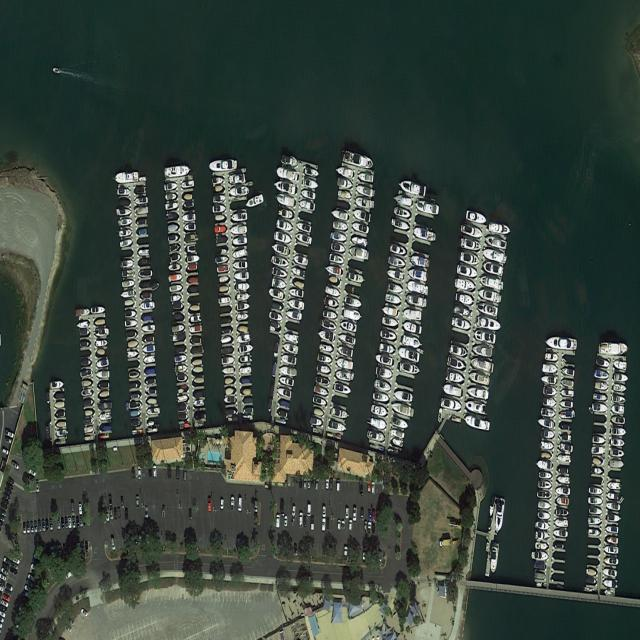ship: (343, 149, 375, 171), (464, 414, 491, 432), (493, 497, 506, 534), (483, 246, 507, 266), (546, 336, 577, 351), (470, 357, 495, 375), (391, 401, 416, 419), (415, 199, 440, 216), (461, 222, 484, 240), (414, 226, 437, 244), (477, 317, 502, 333), (479, 275, 504, 291), (276, 166, 299, 183), (456, 263, 479, 280), (474, 329, 497, 346), (454, 276, 477, 293), (406, 280, 429, 297), (398, 347, 421, 364), (399, 178, 420, 196), (599, 343, 628, 356), (274, 179, 296, 196), (476, 301, 498, 318), (485, 234, 507, 251), (467, 385, 490, 401), (405, 294, 428, 310), (489, 541, 500, 574), (349, 245, 370, 262), (466, 209, 487, 226), (469, 371, 491, 387), (440, 396, 462, 412), (276, 192, 296, 209), (483, 260, 503, 277), (165, 165, 191, 178), (459, 251, 480, 267), (451, 316, 472, 332), (447, 356, 468, 372), (442, 383, 463, 399), (400, 361, 421, 377), (208, 160, 238, 171), (465, 399, 485, 415), (471, 343, 492, 358), (410, 254, 431, 269), (402, 335, 423, 350), (478, 289, 500, 303), (489, 221, 511, 235), (455, 292, 475, 307), (461, 238, 482, 252), (336, 164, 354, 180), (115, 172, 139, 184), (245, 194, 264, 209), (271, 242, 290, 257), (353, 208, 372, 223), (356, 184, 375, 199), (393, 193, 412, 208), (333, 382, 353, 396), (449, 344, 469, 358), (407, 268, 427, 282), (403, 321, 423, 335), (282, 153, 300, 168), (371, 403, 389, 418), (374, 378, 392, 393), (375, 353, 393, 368), (388, 255, 406, 270), (391, 416, 409, 431), (367, 430, 386, 444), (331, 407, 350, 421), (344, 308, 363, 322), (355, 196, 374, 210), (446, 371, 465, 385), (394, 389, 413, 403), (318, 328, 335, 343), (337, 176, 354, 191), (277, 219, 294, 234), (275, 230, 292, 245), (229, 186, 250, 198), (272, 255, 290, 269), (336, 357, 354, 371), (392, 218, 410, 232), (282, 342, 299, 356), (288, 298, 305, 312), (299, 199, 316, 213), (331, 208, 348, 222), (370, 417, 387, 431), (272, 266, 289, 280), (337, 344, 354, 358), (339, 333, 356, 347), (387, 268, 404, 282), (279, 365, 297, 378), (345, 296, 363, 309), (348, 272, 366, 285), (404, 308, 422, 321), (296, 232, 312, 246), (268, 287, 284, 301), (379, 342, 395, 356), (286, 309, 303, 322), (325, 263, 342, 276), (376, 366, 393, 379), (340, 320, 357, 333), (380, 329, 397, 342), (454, 305, 471, 318), (385, 293, 402, 306), (390, 244, 407, 257), (394, 206, 411, 219), (279, 375, 295, 388), (296, 221, 312, 234), (303, 177, 319, 190), (304, 166, 320, 179), (324, 296, 340, 309), (329, 253, 345, 266), (335, 369, 351, 382), (351, 235, 367, 248), (352, 221, 368, 234), (382, 305, 398, 318), (538, 417, 554, 430), (280, 353, 297, 365), (321, 319, 338, 331), (331, 421, 348, 433), (277, 386, 292, 399), (294, 254, 309, 267), (314, 385, 329, 398), (331, 241, 346, 254), (272, 277, 287, 290), (325, 286, 341, 298), (315, 375, 331, 387), (332, 231, 348, 243), (333, 220, 349, 232), (358, 172, 374, 184), (388, 282, 404, 294), (229, 174, 246, 185), (373, 392, 390, 403), (382, 317, 399, 328), (488, 495, 496, 518), (289, 287, 304, 299), (301, 189, 316, 201), (230, 225, 248, 235), (338, 189, 353, 201), (279, 208, 294, 220), (269, 311, 284, 323), (316, 364, 332, 375), (542, 363, 558, 374), (532, 551, 549, 561), (292, 266, 306, 278), (309, 416, 323, 428), (284, 333, 299, 344), (313, 396, 328, 407), (390, 428, 405, 439), (594, 369, 609, 380), (541, 375, 557, 385), (592, 403, 608, 413), (611, 427, 627, 437), (536, 460, 552, 470), (613, 359, 627, 370), (232, 249, 247, 259), (323, 310, 338, 320), (611, 438, 626, 448), (559, 443, 574, 453), (596, 358, 611, 368), (554, 519, 569, 529), (536, 521, 551, 531), (537, 490, 552, 500), (541, 408, 556, 418), (232, 213, 248, 222), (96, 359, 109, 370), (561, 378, 574, 389), (237, 334, 251, 344), (319, 354, 333, 364), (536, 530, 550, 540), (319, 344, 334, 353), (169, 284, 184, 293), (76, 308, 91, 317), (140, 302, 155, 311), (611, 416, 626, 425), (610, 449, 625, 458), (610, 460, 625, 469), (606, 502, 621, 511), (603, 557, 618, 566), (603, 579, 618, 588), (588, 517, 603, 526), (556, 487, 571, 496), (392, 437, 404, 448), (541, 441, 554, 451), (559, 411, 575, 419), (239, 345, 253, 354), (119, 229, 133, 238), (164, 182, 178, 191), (122, 280, 136, 289), (125, 319, 139, 328), (545, 353, 559, 362), (603, 569, 617, 578), (589, 507, 603, 516), (595, 382, 609, 391), (556, 497, 570, 506), (554, 529, 568, 538), (537, 511, 551, 520), (543, 387, 557, 396), (212, 205, 227, 213), (234, 272, 249, 280), (91, 306, 106, 314), (120, 290, 135, 298), (613, 384, 628, 392), (593, 393, 608, 401), (604, 546, 619, 554), (588, 497, 603, 505), (589, 487, 604, 495), (614, 374, 629, 382), (538, 481, 553, 489), (273, 342, 280, 359), (175, 354, 188, 363), (172, 324, 185, 333), (147, 407, 160, 416), (96, 328, 109, 337), (98, 412, 111, 421), (142, 345, 155, 354), (611, 405, 624, 414), (557, 455, 570, 464), (544, 398, 557, 407), (215, 256, 229, 264), (237, 293, 251, 301), (233, 261, 247, 269), (233, 237, 247, 245), (169, 274, 183, 282), (181, 180, 195, 188), (96, 371, 110, 379), (50, 381, 64, 389), (591, 447, 605, 455), (559, 401, 573, 409), (607, 482, 621, 490), (557, 476, 571, 484), (538, 501, 552, 509), (150, 280, 160, 291), (192, 346, 204, 355), (122, 269, 134, 278), (562, 368, 574, 377), (214, 226, 227, 234), (217, 265, 230, 273), (237, 303, 250, 311), (213, 195, 226, 203), (222, 357, 235, 365), (173, 334, 186, 342), (168, 263, 181, 271), (165, 202, 178, 210), (135, 197, 148, 205), (120, 240, 133, 248), (187, 255, 200, 263), (189, 325, 202, 333), (80, 370, 93, 378), (127, 350, 140, 358), (561, 389, 574, 397), (539, 472, 552, 480), (541, 431, 554, 439), (278, 409, 288, 419), (52, 66, 62, 76), (279, 400, 290, 409), (219, 275, 230, 284), (314, 408, 325, 417), (272, 303, 283, 312), (269, 320, 280, 329), (182, 214, 196, 221), (139, 270, 153, 277), (99, 403, 113, 410), (142, 325, 156, 332), (608, 515, 622, 522), (612, 396, 626, 403), (535, 543, 549, 550), (238, 283, 250, 291), (176, 365, 188, 373), (177, 395, 189, 403), (165, 193, 177, 201), (125, 310, 137, 318), (144, 356, 156, 364), (239, 367, 252, 374), (237, 314, 250, 321), (221, 347, 234, 354), (218, 297, 231, 304), (135, 207, 148, 214), (121, 261, 134, 268), (129, 402, 142, 409), (593, 437, 606, 444), (606, 493, 619, 500), (606, 526, 619, 533), (588, 529, 601, 536), (556, 509, 569, 516), (294, 280, 304, 289), (225, 387, 235, 396), (535, 572, 545, 581), (237, 325, 248, 333), (221, 335, 232, 343), (168, 224, 179, 232), (191, 337, 202, 345), (193, 399, 204, 407), (77, 321, 88, 329), (54, 401, 65, 409), (141, 292, 152, 300), (128, 340, 139, 348), (127, 331, 138, 339), (604, 589, 615, 597), (586, 577, 597, 585), (272, 361, 277, 378), (45, 423, 50, 440), (216, 236, 228, 243), (213, 177, 225, 184), (224, 396, 236, 403), (240, 356, 252, 363), (184, 224, 196, 231), (135, 187, 147, 194), (120, 209, 132, 216), (121, 219, 133, 226), (96, 340, 108, 347), (57, 430, 69, 437), (139, 259, 151, 266), (172, 303, 184, 310), (591, 468, 603, 475), (170, 244, 180, 252), (592, 458, 602, 466), (118, 189, 131, 195), (215, 214, 226, 221), (168, 235, 179, 242), (177, 405, 188, 412), (171, 294, 182, 301), (171, 255, 182, 262), (138, 249, 149, 256), (80, 329, 91, 336), (84, 426, 95, 433), (81, 389, 92, 396), (99, 391, 110, 398), (131, 420, 142, 427), (129, 371, 140, 378), (607, 537, 618, 544), (586, 569, 597, 576), (541, 452, 552, 459), (215, 185, 224, 193), (222, 368, 234, 374), (138, 228, 147, 236), (174, 313, 183, 321), (268, 399, 273, 413), (137, 219, 147, 226), (191, 315, 201, 322), (192, 359, 202, 366), (193, 367, 203, 374), (95, 319, 105, 326), (84, 399, 94, 406), (56, 421, 66, 428), (243, 398, 253, 405), (99, 382, 109, 389), (125, 299, 135, 306), (144, 336, 154, 343), (131, 410, 141, 417), (559, 467, 569, 474), (177, 375, 188, 381), (187, 265, 198, 271), (81, 360, 92, 366), (243, 408, 254, 414), (45, 391, 50, 404), (487, 518, 492, 531), (220, 286, 229, 293), (184, 194, 193, 201), (80, 341, 89, 348), (55, 392, 64, 399), (195, 391, 204, 398), (179, 414, 189, 420), (184, 202, 194, 208), (196, 414, 206, 420), (190, 305, 200, 311), (194, 378, 204, 384), (82, 381, 92, 387), (188, 287, 198, 293), (147, 399, 157, 405), (146, 379, 156, 385), (222, 328, 232, 334), (97, 349, 105, 356), (485, 542, 490, 553), (243, 389, 252, 395), (189, 277, 198, 283), (56, 411, 65, 417), (148, 389, 157, 395), (146, 369, 155, 375), (143, 316, 152, 322), (555, 544, 564, 550), (84, 419, 94, 424), (226, 410, 236, 415), (125, 402, 130, 412), (85, 410, 93, 416), (130, 383, 138, 389), (225, 379, 234, 384), (241, 379, 250, 384), (131, 394, 140, 399), (102, 426, 111, 431), (139, 177, 147, 182), (269, 326, 275, 332), (148, 420, 154, 426)
small-vehicle: (24, 584, 34, 595), (439, 539, 451, 548), (65, 569, 74, 580), (26, 578, 35, 589), (2, 592, 11, 603), (12, 460, 20, 472), (30, 562, 39, 572), (27, 573, 37, 582), (3, 588, 12, 598), (3, 556, 12, 566), (110, 537, 116, 552), (5, 581, 13, 592), (2, 561, 10, 572), (1, 599, 10, 608), (5, 429, 14, 438), (10, 566, 18, 576), (22, 476, 30, 486), (80, 607, 88, 617), (8, 476, 15, 487), (238, 497, 243, 512), (353, 506, 358, 521), (64, 624, 72, 633), (12, 556, 20, 565), (11, 562, 19, 571), (29, 468, 37, 477), (44, 518, 49, 532), (49, 518, 54, 532), (137, 466, 142, 480), (230, 497, 235, 511), (105, 508, 110, 522), (280, 502, 285, 516), (37, 519, 42, 532), (41, 519, 46, 532), (64, 516, 69, 529), (71, 515, 76, 528), (79, 515, 84, 528), (131, 466, 136, 479), (167, 466, 172, 479), (175, 467, 180, 480), (135, 495, 140, 508), (108, 495, 113, 508), (188, 508, 193, 521), (359, 480, 364, 493), (1, 568, 9, 576), (3, 493, 11, 501), (27, 473, 35, 481), (2, 448, 10, 456), (5, 436, 13, 444), (299, 512, 303, 528), (6, 483, 13, 492), (5, 488, 12, 497), (1, 498, 8, 507), (1, 503, 8, 512), (57, 516, 61, 531), (57, 545, 62, 557), (208, 497, 212, 512), (124, 508, 129, 520), (276, 514, 280, 529), (61, 516, 65, 530), (76, 515, 80, 529), (71, 502, 75, 516), (311, 516, 315, 530), (344, 546, 348, 560), (368, 522, 372, 536), (33, 521, 38, 532), (253, 501, 258, 512), (329, 479, 334, 490), (367, 482, 372, 493), (345, 508, 350, 519), (68, 516, 72, 529), (26, 521, 30, 534), (153, 465, 157, 478), (145, 506, 149, 519), (35, 480, 39, 493), (336, 479, 340, 492), (322, 518, 326, 531), (363, 548, 367, 561), (360, 508, 364, 521), (67, 618, 74, 625), (85, 541, 89, 553), (30, 521, 34, 533), (183, 468, 187, 480), (23, 522, 27, 534), (120, 497, 124, 509), (113, 507, 117, 519), (315, 479, 319, 491), (307, 477, 311, 489), (303, 477, 307, 489), (349, 520, 353, 532), (364, 521, 368, 533), (368, 509, 372, 521), (307, 504, 311, 516), (78, 504, 82, 515), (284, 515, 288, 526), (292, 505, 296, 516), (117, 508, 121, 518), (303, 517, 307, 527), (323, 505, 326, 518), (221, 498, 224, 510), (110, 508, 113, 519), (326, 479, 329, 490), (327, 518, 330, 529), (372, 483, 375, 494), (338, 520, 341, 530)
